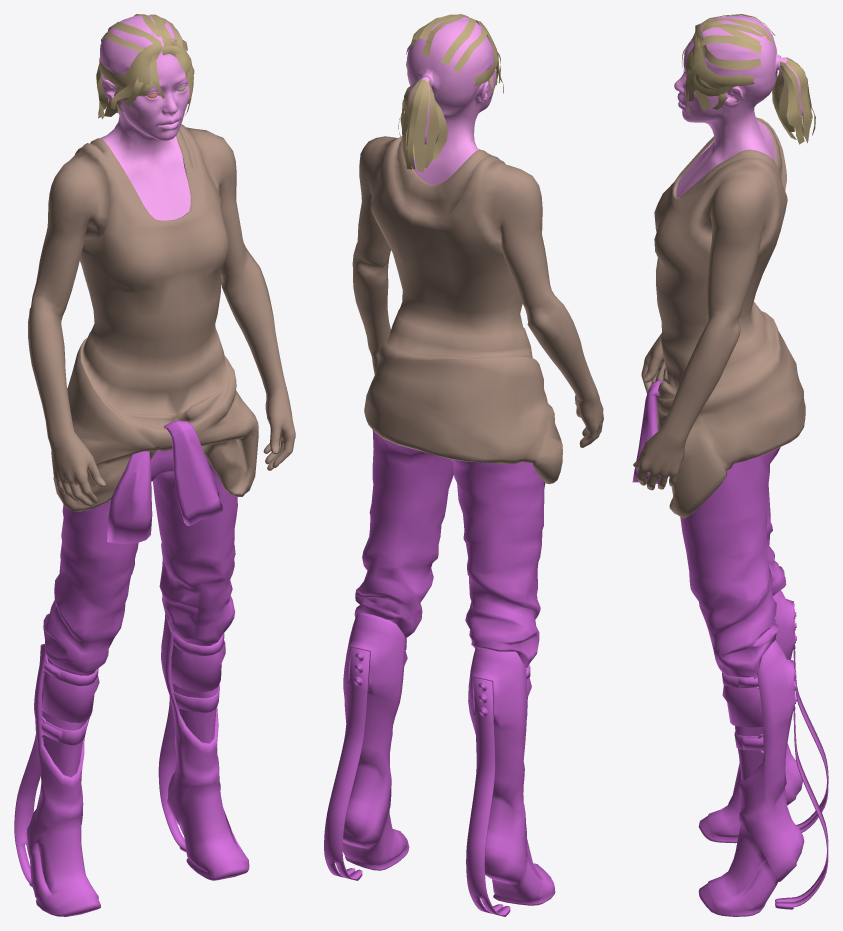
The model's file is Chell.obj.
3 views of the same model, side by side, from view 1: azimuth 30°, elevation 25°; view 2: azimuth 150°, elevation 25°; view 3: azimuth 270°, elevation 25° (orthographic).
Parts seen in each view (by area): view 1: player_model_torso, player_model_legs, player_model_head, player_model_hair; view 2: player_model_legs, player_model_torso, player_model_head, player_model_hair; view 3: player_model_torso, player_model_legs, player_model_head, player_model_hair.
Part boxes in pixels (x1,y1,x2,y2): player_model_torso: (28, 124, 295, 511); player_model_legs: (14, 420, 249, 916); player_model_head: (100, 15, 190, 220); player_model_hair: (96, 14, 194, 119); player_model_legs: (324, 430, 555, 916); player_model_torso: (352, 136, 603, 484); player_model_head: (407, 17, 496, 184); player_model_hair: (398, 14, 503, 172); player_model_torso: (633, 117, 805, 518); player_model_legs: (632, 380, 828, 916); player_model_head: (674, 15, 803, 197); player_model_hair: (681, 14, 815, 144).
Bounding box in the file's own units: 21.45 × 76.58 × 15.98.
